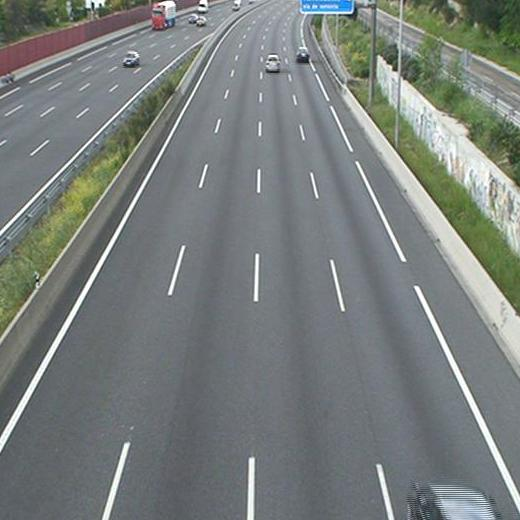car: (266, 54, 282, 72), (296, 47, 310, 63)
